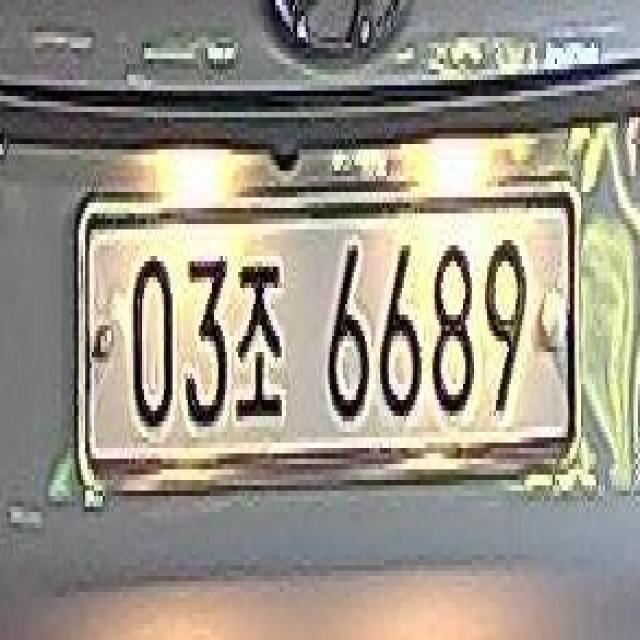illegal_plate: (78, 178, 579, 504)
